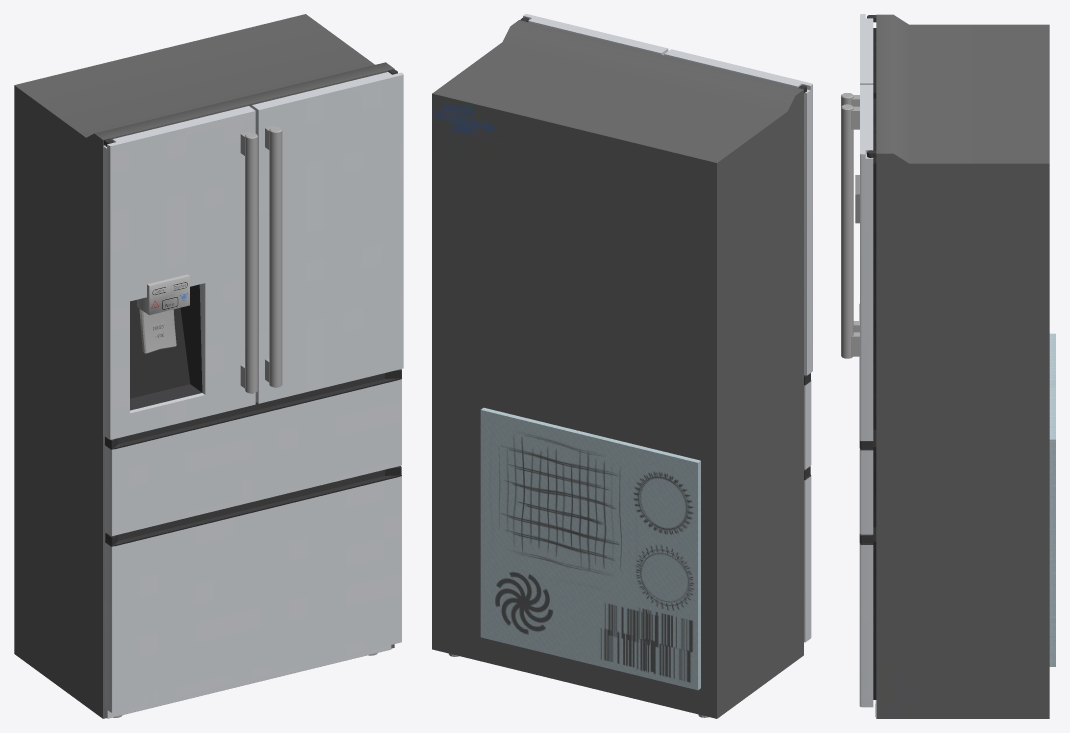
Rendered from fridge_fd.glb.
The picture shows the model from 3 angles, left to right: view 1: azimuth 30°, elevation 25°; view 2: azimuth 150°, elevation 25°; view 3: azimuth 270°, elevation 25°; orthographic projection. The views are drawn at different scales.
Visible parts, largest first — view 1: pCube17_Fridge_Stainless_0, pCube17_Fridge_Body_0, pCube17_Fridge_Plastic_0, pCube17_Fridge_Brushed_0; view 2: pCube17_Fridge_Body_0, pCube17_Fridge_Radiator_0, pCube17_Fridge_Stainless_0; view 3: pCube17_Fridge_Body_0, pCube17_Fridge_Stainless_0, pCube17_Fridge_Brushed_0, pCube17_Fridge_Gasket_0, pCube17_Fridge_Radiator_0, pCube17_Fridge_Plastic_0.
Part boxes in pixels (bbox=[...]): pCube17_Fridge_Stainless_0: bbox=[103, 72, 403, 718]; pCube17_Fridge_Body_0: bbox=[14, 14, 394, 718]; pCube17_Fridge_Plastic_0: bbox=[103, 69, 401, 546]; pCube17_Fridge_Brushed_0: bbox=[113, 126, 377, 717]; pCube17_Fridge_Body_0: bbox=[432, 20, 803, 718]; pCube17_Fridge_Radiator_0: bbox=[480, 407, 700, 690]; pCube17_Fridge_Stainless_0: bbox=[523, 14, 812, 642]; pCube17_Fridge_Body_0: bbox=[876, 14, 1049, 718]; pCube17_Fridge_Stainless_0: bbox=[859, 14, 875, 717]; pCube17_Fridge_Brushed_0: bbox=[841, 93, 859, 358]; pCube17_Fridge_Gasket_0: bbox=[873, 28, 876, 699]; pCube17_Fridge_Radiator_0: bbox=[1049, 333, 1055, 666]; pCube17_Fridge_Plastic_0: bbox=[859, 15, 876, 544].
Bounding box in the file's own units: 0.9595 × 1.82 × 0.6205.
6 materials, 5 textured.
